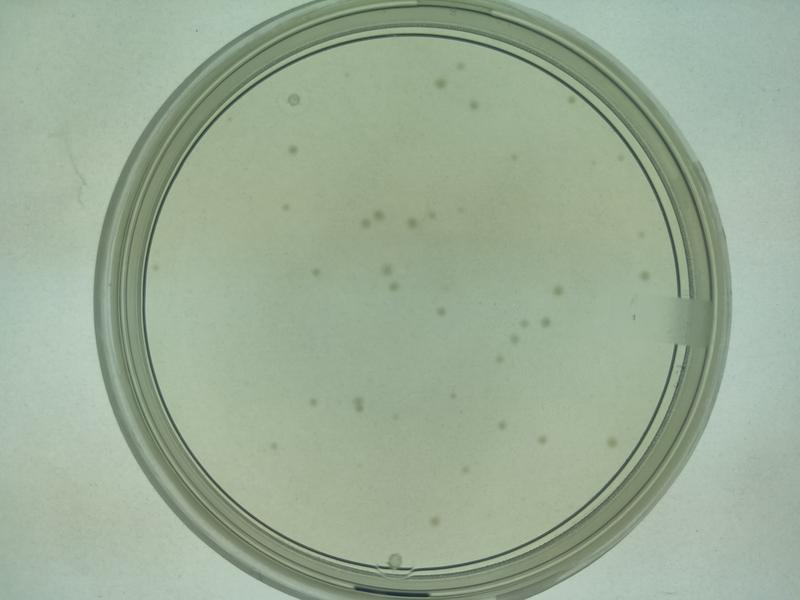colony: (300, 392, 322, 410), (400, 215, 420, 232), (490, 351, 508, 368), (430, 77, 449, 93), (285, 143, 302, 160), (493, 417, 510, 433), (426, 515, 442, 532), (536, 431, 551, 449), (606, 435, 622, 451), (432, 304, 449, 319), (279, 199, 293, 217), (641, 269, 655, 285), (636, 229, 650, 245), (551, 285, 565, 300), (467, 100, 482, 113), (306, 267, 321, 279)
